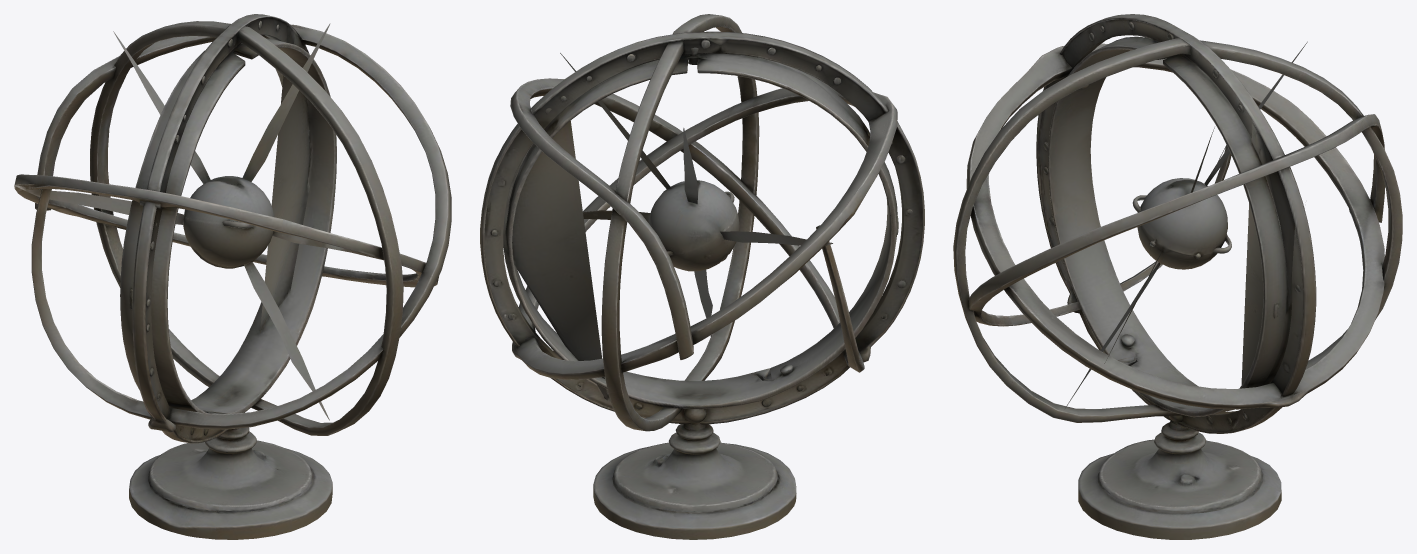
Rendered from ancient-astrolabe.glb.
3 renders of one model, left to right at view 1: azimuth 30°, elevation 25°; view 2: azimuth 150°, elevation 25°; view 3: azimuth 270°, elevation 25°, orthographic.
Visible parts, largest first — view 1: tripo_node_69f70c10-a0f7-4717-ae29-0b3e6f642aac; view 2: tripo_node_69f70c10-a0f7-4717-ae29-0b3e6f642aac; view 3: tripo_node_69f70c10-a0f7-4717-ae29-0b3e6f642aac.
Part boxes in pixels (x1,y1,x2,y2): tripo_node_69f70c10-a0f7-4717-ae29-0b3e6f642aac: (14, 14, 451, 539); tripo_node_69f70c10-a0f7-4717-ae29-0b3e6f642aac: (480, 14, 924, 539); tripo_node_69f70c10-a0f7-4717-ae29-0b3e6f642aac: (953, 14, 1402, 539).
Bounding box in the file's own units: 0.7837 × 0.9995 × 0.8784.
Materials: 1 (1 with a texture image).
